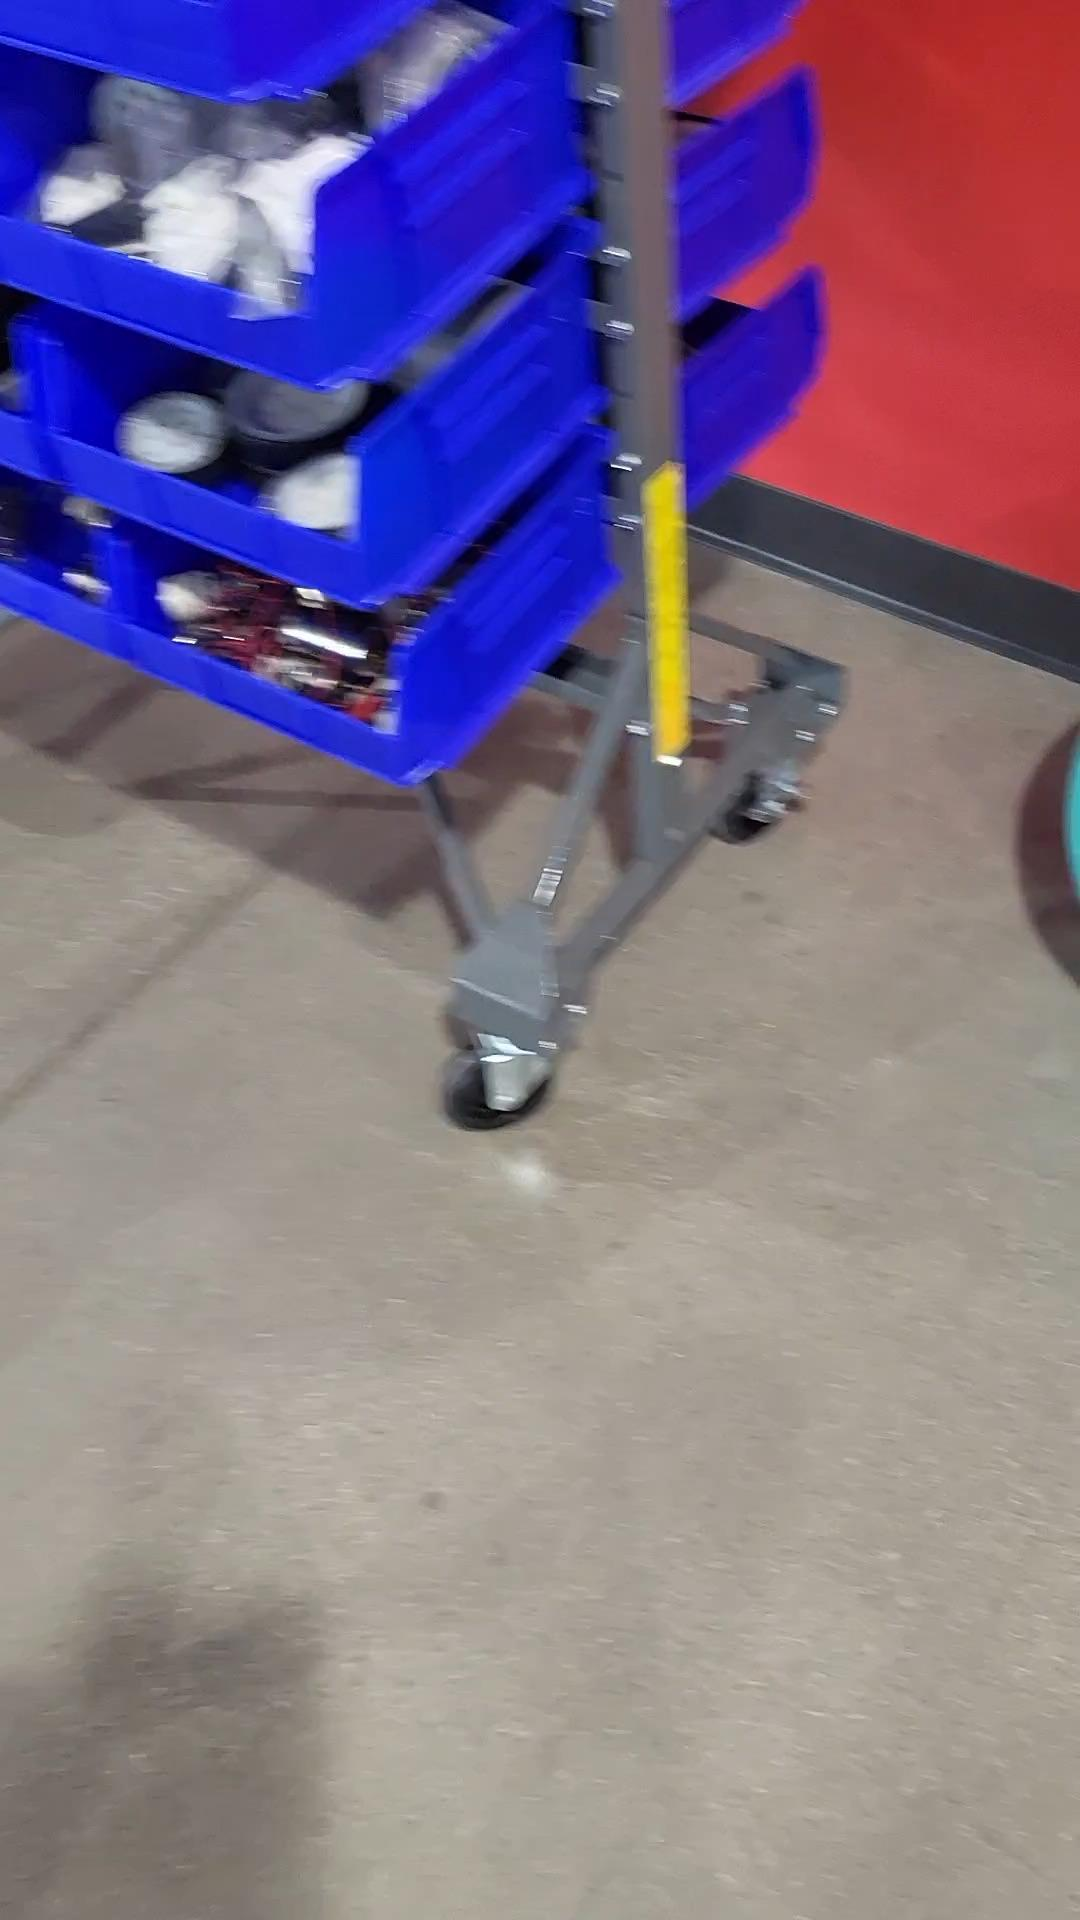algae: (1071, 680, 1080, 885)
